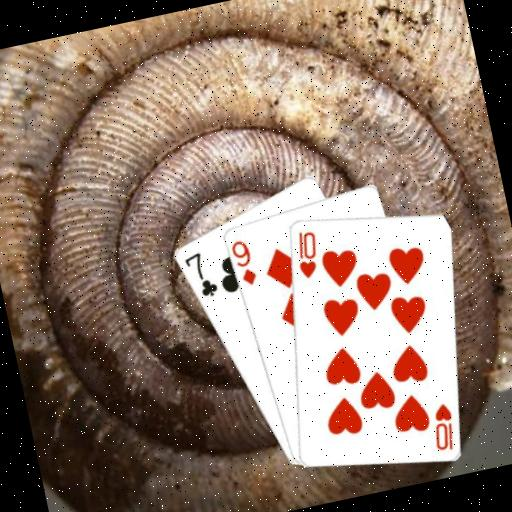10H: (288, 225, 325, 281), (423, 399, 460, 454)
7C: (179, 246, 220, 302)
9D: (227, 235, 260, 289)
